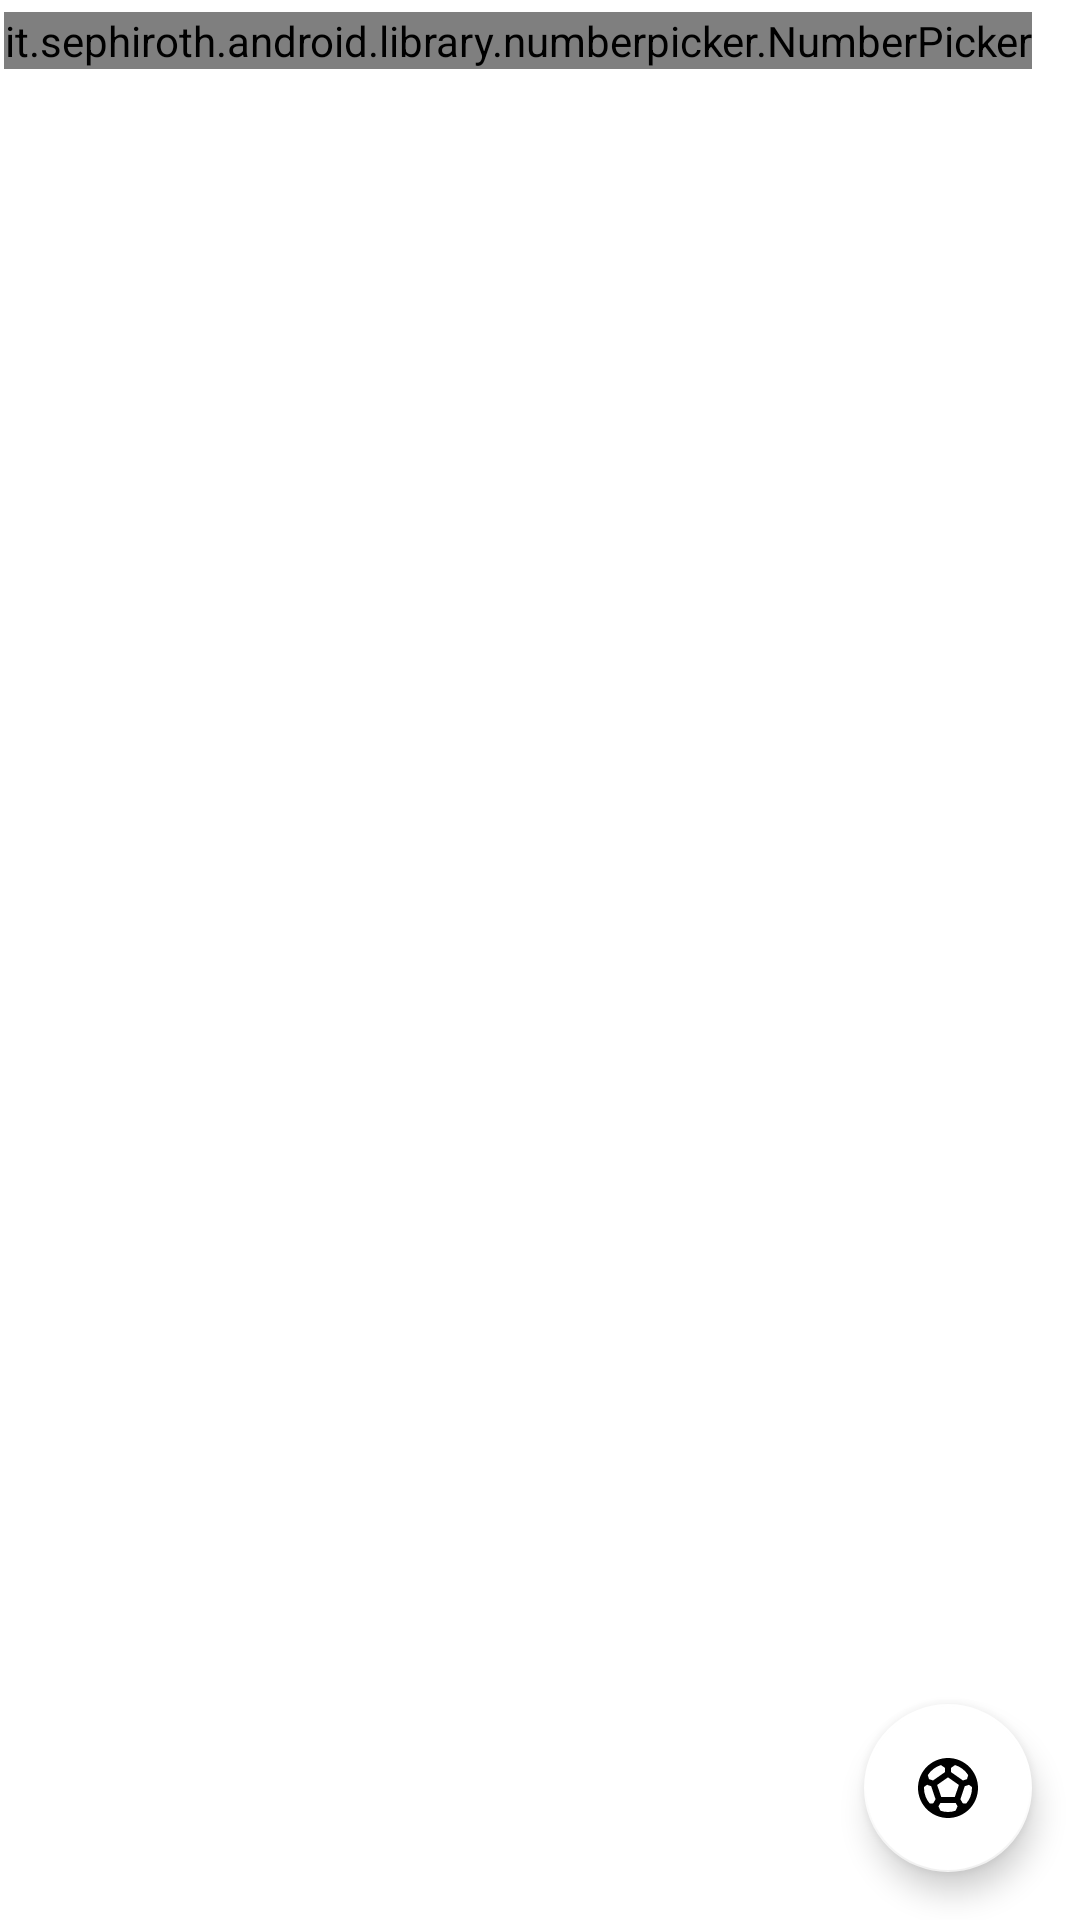

Where icons sit on this 1080*1920 app screen, as detection(x1, y1, x2, y2):
Draw fixture: detection(869, 1758, 978, 1822)
